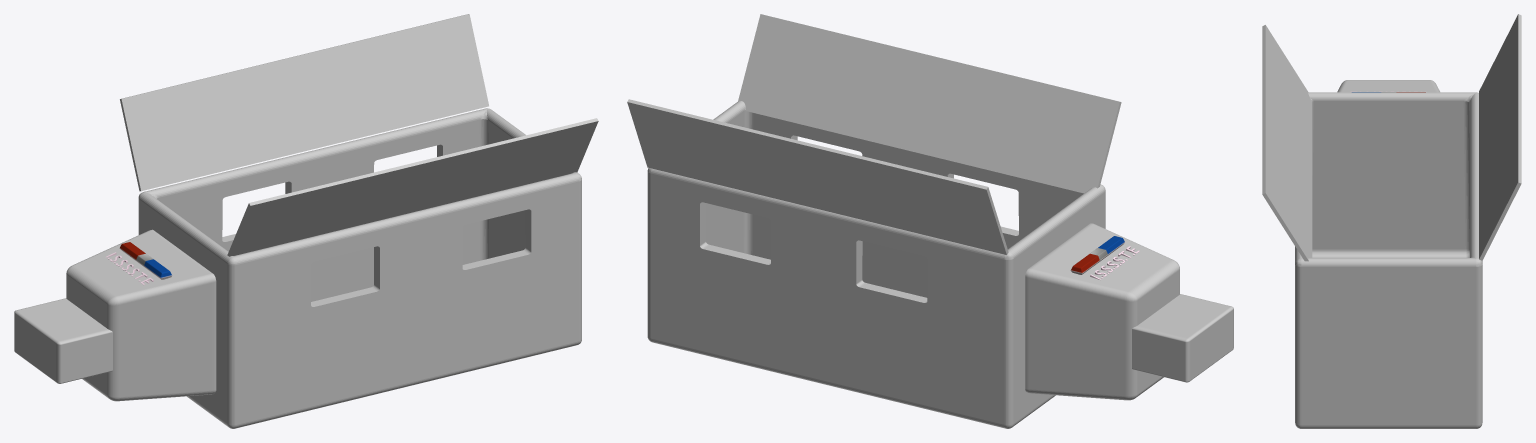
The model's file is yAESTAESTO.fbx.
3 renders of one model, left to right at view 1: azimuth 30°, elevation 25°; view 2: azimuth 150°, elevation 25°; view 3: azimuth 270°, elevation 25°, orthographic. The views are drawn at different scales.
Visible parts, largest first — view 1: Door2, Roof light bar; view 2: Door2, Roof light bar; view 3: Door2.
Boxes of the visible parts, x1,y1,x2,y2 form: Door2: [14, 14, 598, 428]; Roof light bar: [119, 242, 172, 279]; Door2: [627, 14, 1233, 428]; Roof light bar: [1070, 236, 1124, 274]; Door2: [1262, 14, 1521, 428].
Bounding box in the file's own units: 612 × 292 × 277.
